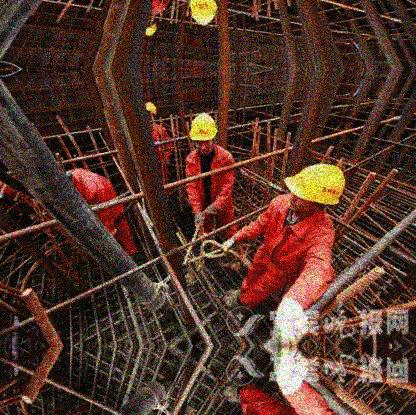helmet: (284, 161, 347, 214), (188, 110, 218, 155), (146, 102, 157, 122)
